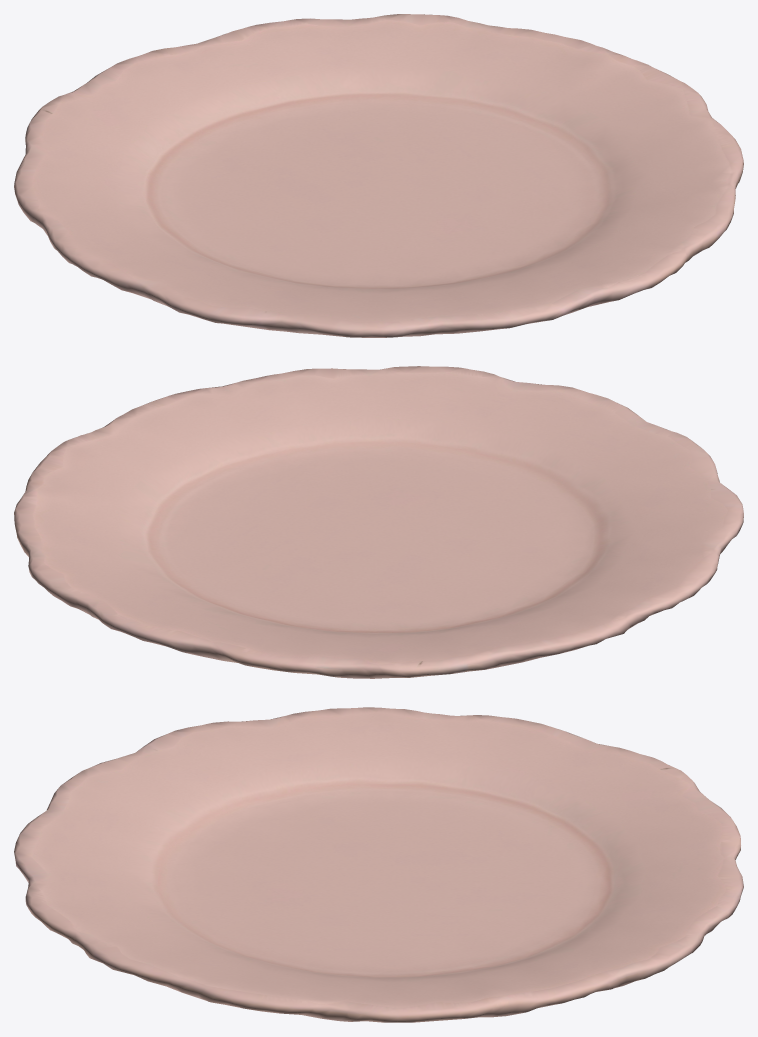
Rendered from Pink_Plate.fbx.
The picture shows the model from 3 angles, top to bottom: view 1: azimuth 30°, elevation 25°; view 2: azimuth 150°, elevation 25°; view 3: azimuth 270°, elevation 25°; orthographic projection. The views are drawn at different scales.
Visible parts, largest first — view 1: Pink_Plate; view 2: Pink_Plate; view 3: Pink_Plate.
Part boxes in pixels (x1,y1,x2,y2): Pink_Plate: (14, 14, 743, 337); Pink_Plate: (14, 366, 743, 678); Pink_Plate: (14, 707, 743, 1022).
Size of the model in its own units: 0.3 by 0.024 by 0.3.
1 material, 1 textured.
